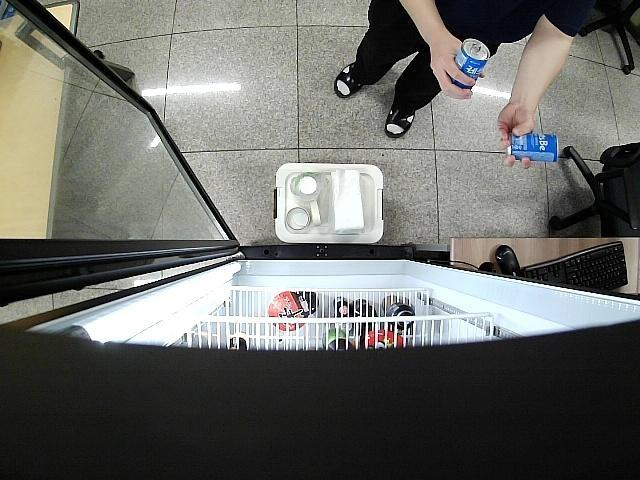15_letsbe: (454, 39, 490, 91), (508, 131, 560, 166)
